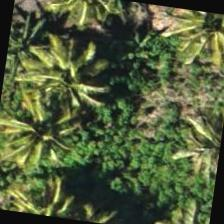Kelapa_Sawit: (8, 22, 110, 124), (0, 78, 91, 180), (168, 85, 223, 183), (162, 7, 223, 68)
